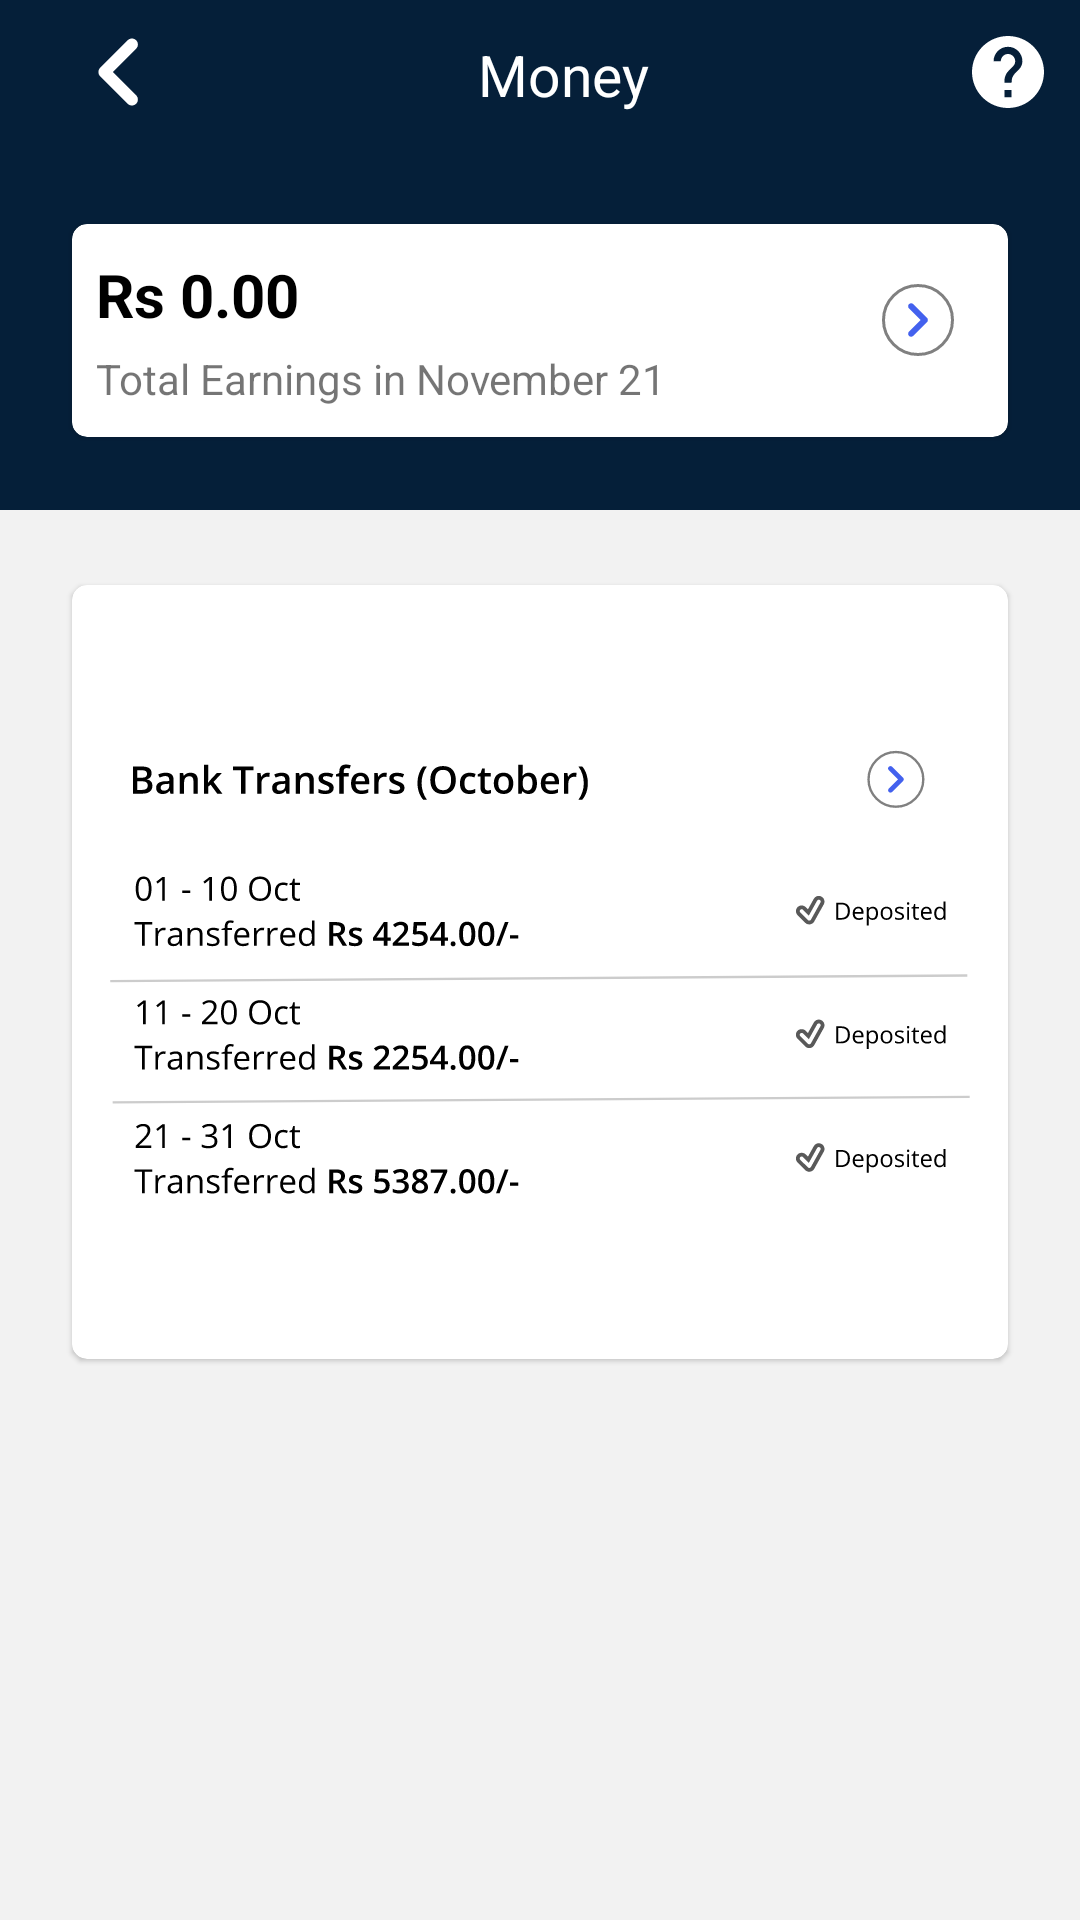

Icons on this 1080px x 1920px Android screen, each with its box as (x1, y1, x2, y2):
prev: (98, 38, 138, 106)
question: (972, 36, 1044, 108)
roundnext: (882, 284, 954, 356)
